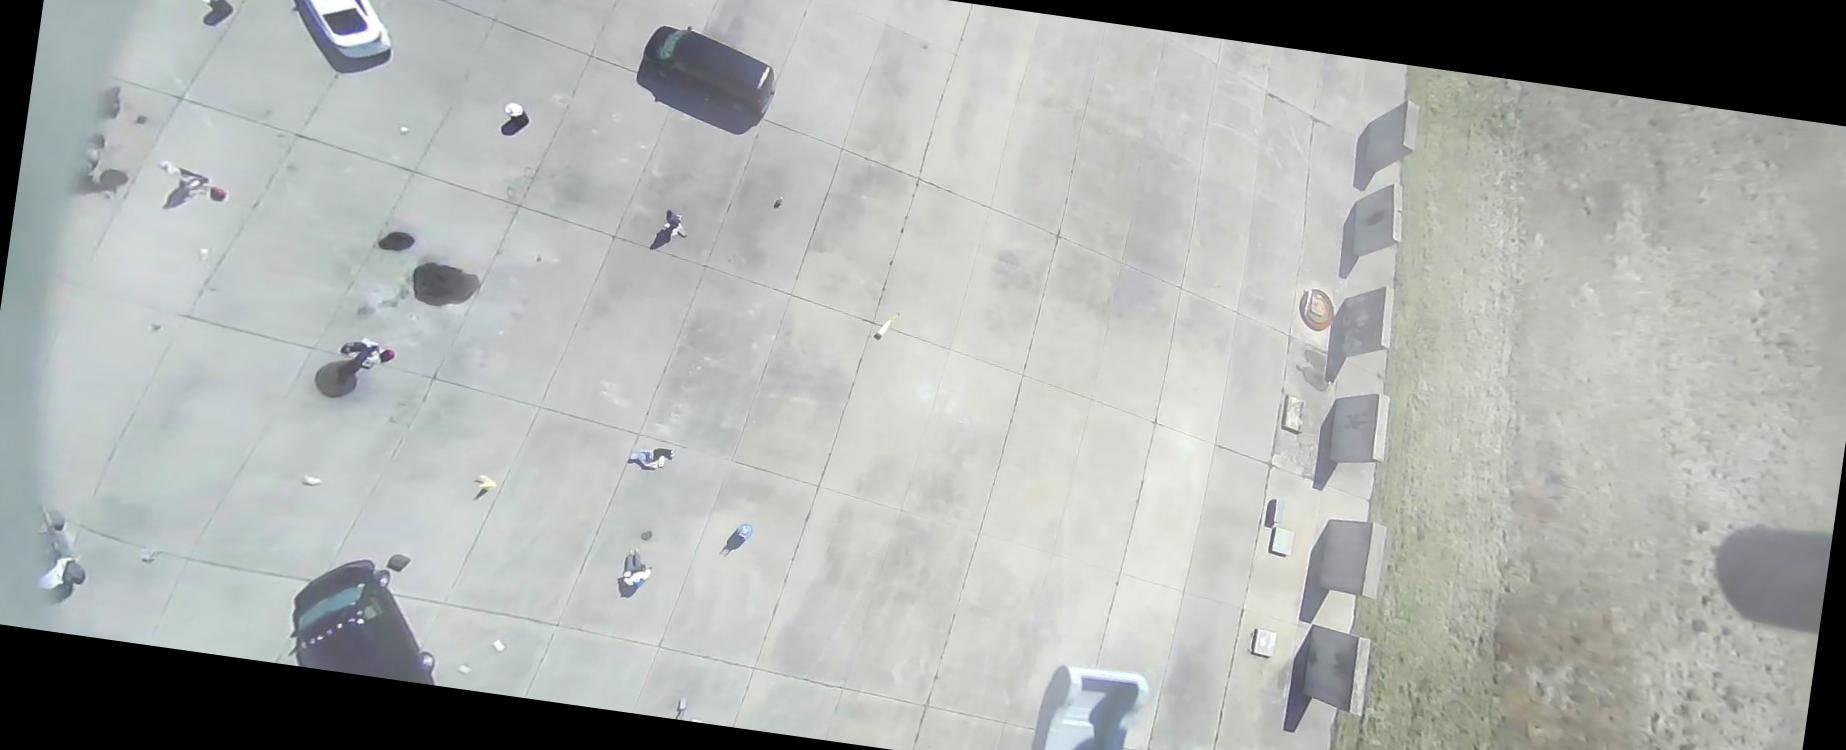vehicle: (285, 550, 452, 684), (636, 20, 784, 119), (274, 0, 404, 64), (20, 504, 94, 595)
